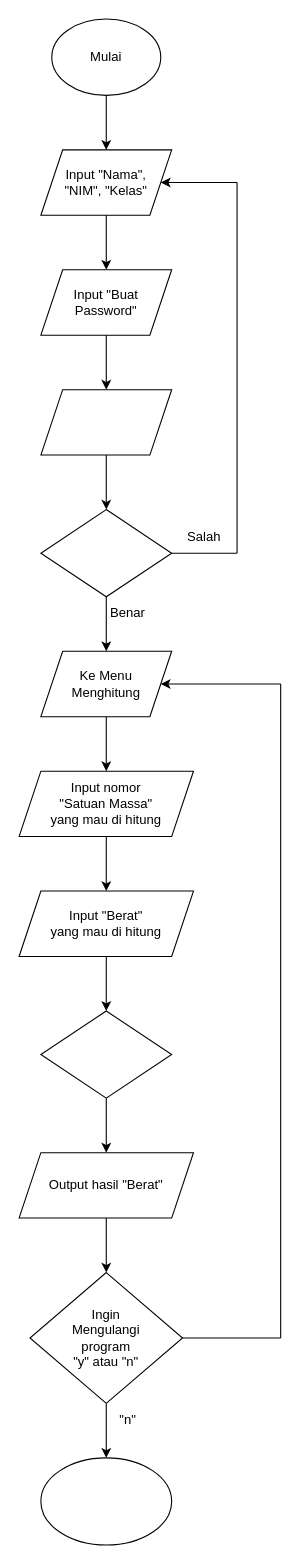
This 308x1564 diagram has some shape labels left out. Each missing label, with the centre of its shape:
Input "Password": (x=106, y=422)
Menghitung hasil konversi: (x=106, y=1054)
Pemeriksaan Password: (x=106, y=552)
Selesai: (x=106, y=1501)
